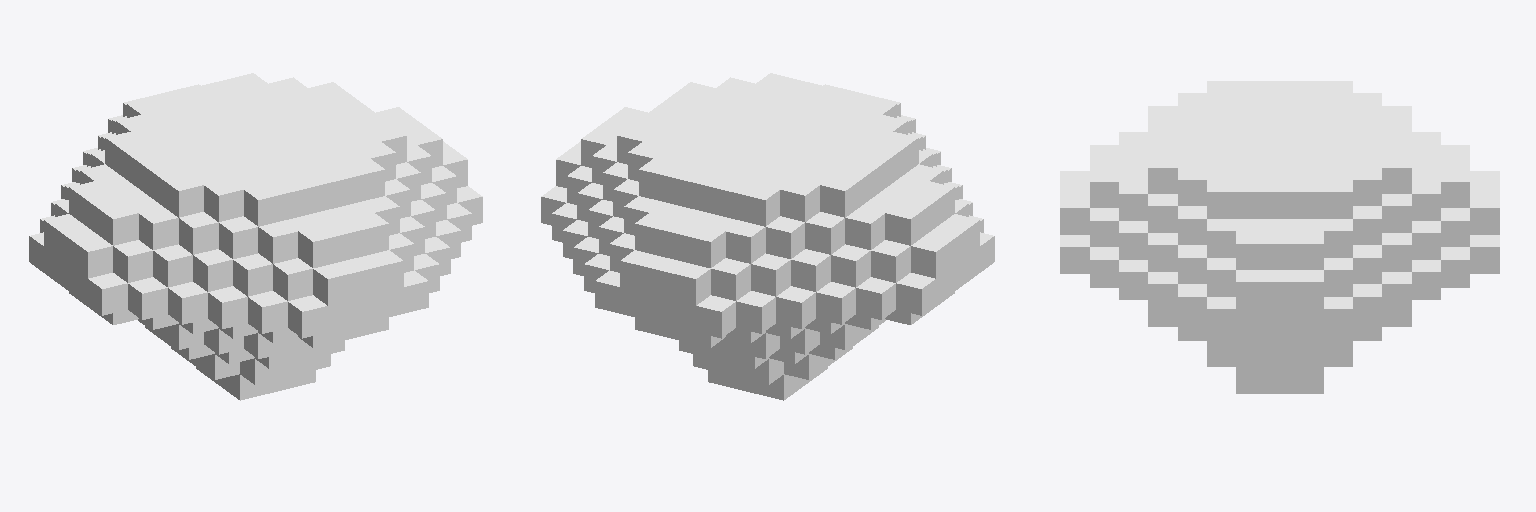
The model's file is Diymond.obj.
3 views of the same model, side by side, from view 1: azimuth 30°, elevation 25°; view 2: azimuth 150°, elevation 25°; view 3: azimuth 270°, elevation 25° (orthographic).
Visible parts, largest first — view 1: object 1; view 2: object 1; view 3: object 1.
Boxes of the visible parts, x1,y1,x2,y2 form: object 1: [29, 73, 482, 400]; object 1: [541, 73, 994, 400]; object 1: [1060, 81, 1499, 393].
Bounding box in the file's own units: 1.5 × 0.9 × 1.5.